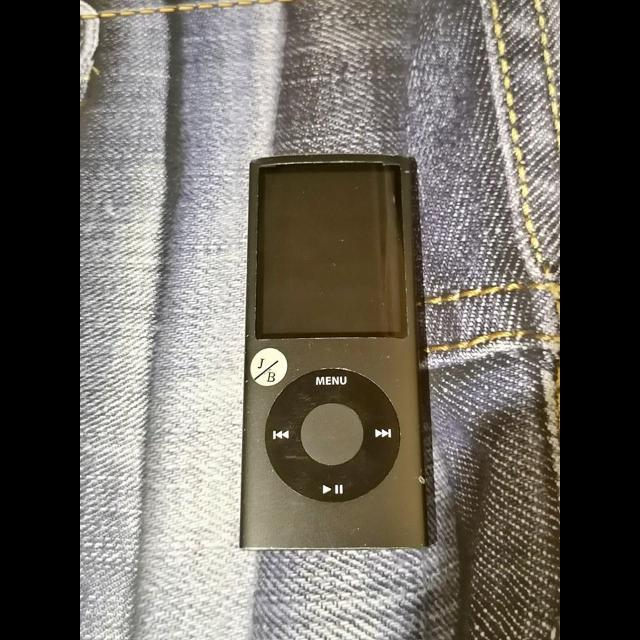Music-Player: (216, 148, 462, 572)
